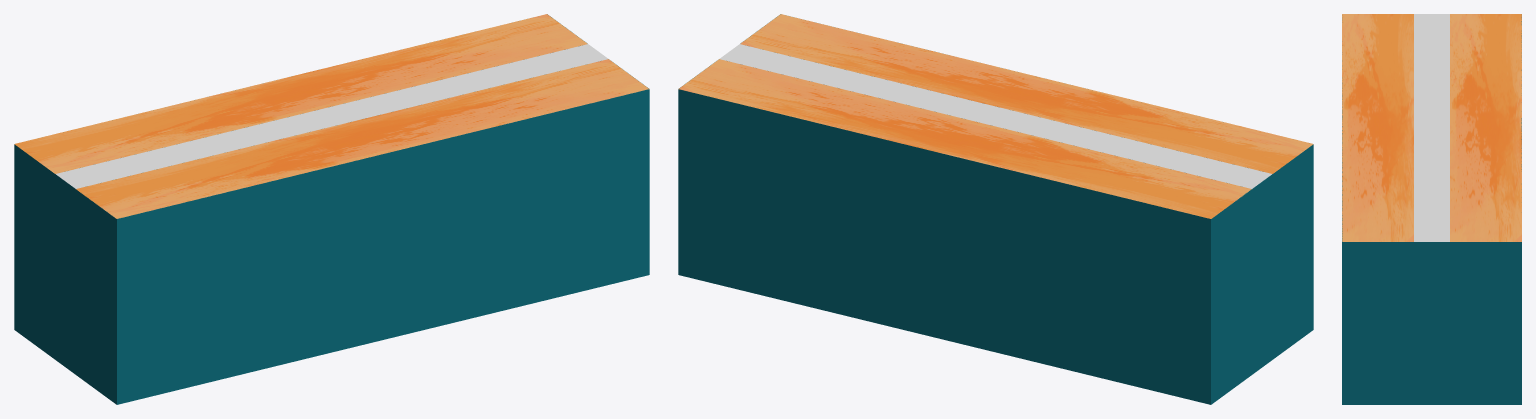
Rendered from lava-platform-001.fbx.
The picture shows the model from 3 angles, left to right: view 1: azimuth 30°, elevation 25°; view 2: azimuth 150°, elevation 25°; view 3: azimuth 270°, elevation 25°; orthographic projection. The views are drawn at different scales.
Visible parts, largest first — view 1: lava-platform-box, lava-plane.001; view 2: lava-platform-box, lava-plane.001; view 3: lava-platform-box, lava-plane.001.
Boxes of the visible parts, x1,y1,x2,y2 form: lava-platform-box: (14,44,649,404); lava-plane.001: (14,14,649,218); lava-platform-box: (678,44,1313,404); lava-plane.001: (678,14,1313,218); lava-platform-box: (1342,14,1521,404); lava-plane.001: (1342,14,1521,241).
Bounding box in the file's own units: 3001 × 1000 × 1001.
